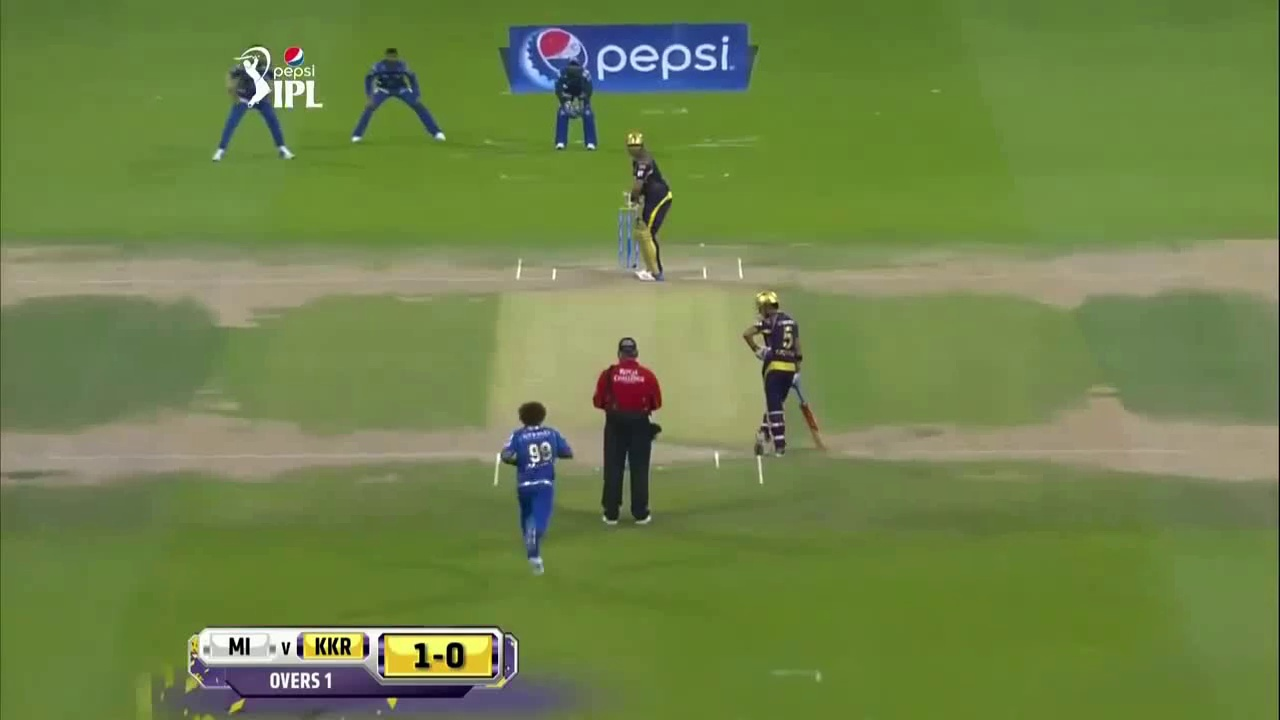bat: (789, 376, 830, 455)
batter: (739, 287, 836, 462), (617, 127, 675, 283)
field: (1, 1, 1280, 720)
pitch: (485, 244, 771, 487)
player: (590, 331, 670, 534), (492, 395, 579, 580), (345, 34, 459, 152), (553, 59, 601, 153)
scoreboard: (187, 624, 521, 698)
stumps: (613, 190, 639, 269)
